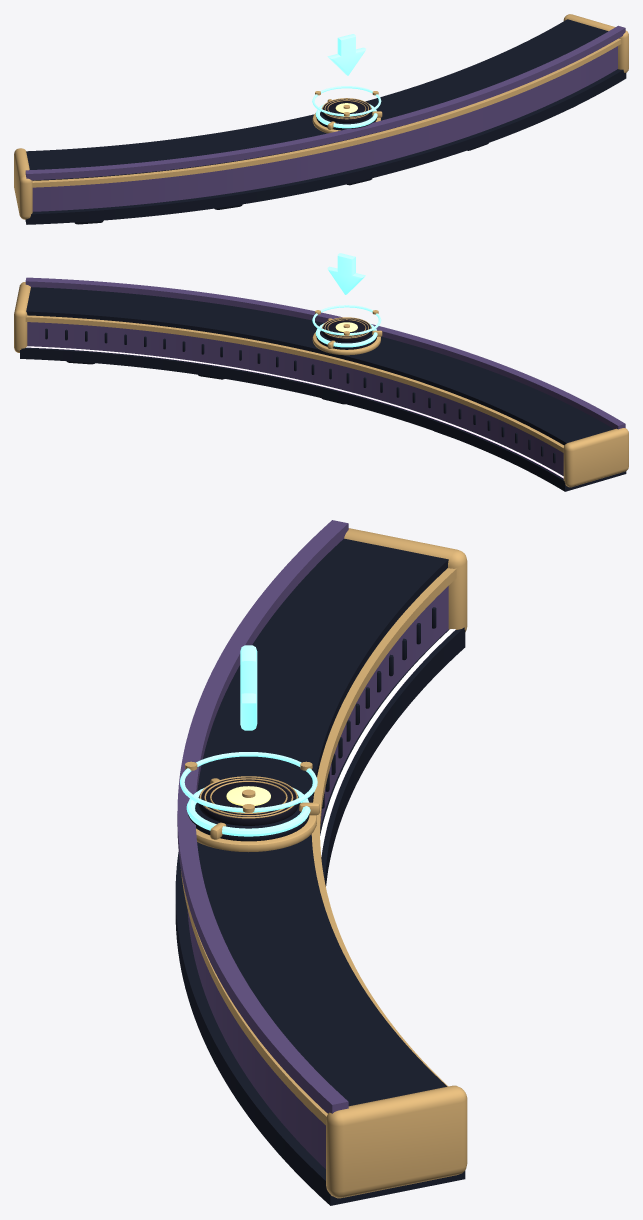
The model's file is song-arc.glb.
3 views of the same model, one above another, from view 1: azimuth 30°, elevation 25°; view 2: azimuth 150°, elevation 25°; view 3: azimuth 270°, elevation 25° (orthographic). The views are drawn at different scales.
Parts seen in each view (by area): view 1: Arc_Static, Slot_Record, Slot_Arrow, Slot_Static.004, Slot_Orbit, Slot_Halo; view 2: Arc_Static, Arc_Rail, Slot_Record, Slot_Arrow, Slot_Static.004, Slot_Orbit, Slot_Halo; view 3: Arc_Static, Slot_Record, Slot_Static.004, Slot_Orbit, Slot_Arrow, Arc_Rail, Slot_Halo.
Boxes of the visible parts, left/top/right/bottom form: Arc_Static: left=14, top=14, right=628, bottom=224; Slot_Record: left=321, top=98, right=371, bottom=122; Slot_Arrow: left=327, top=34, right=365, bottom=75; Slot_Static.004: left=312, top=99, right=382, bottom=133; Slot_Orbit: left=312, top=86, right=381, bottom=116; Slot_Halo: left=315, top=104, right=377, bottom=128; Arc_Static: left=14, top=277, right=628, bottom=491; Arc_Rail: left=26, top=346, right=563, bottom=478; Slot_Record: left=321, top=317, right=371, bottom=341; Slot_Arrow: left=327, top=253, right=365, bottom=294; Slot_Static.004: left=312, top=318, right=382, bottom=355; Slot_Orbit: left=312, top=305, right=381, bottom=335; Slot_Halo: left=315, top=323, right=377, bottom=347; Arc_Static: left=175, top=520, right=467, bottom=1205; Slot_Record: left=198, top=776, right=298, bottom=825; Slot_Static.004: left=188, top=778, right=319, bottom=852; Slot_Orbit: left=179, top=752, right=317, bottom=812; Slot_Arrow: left=240, top=645, right=257, bottom=730; Arc_Rail: left=320, top=629, right=455, bottom=856; Slot_Halo: left=186, top=787, right=310, bottom=836.
Bounding box in the file's own units: 14.78 × 3.18 × 3.07.
